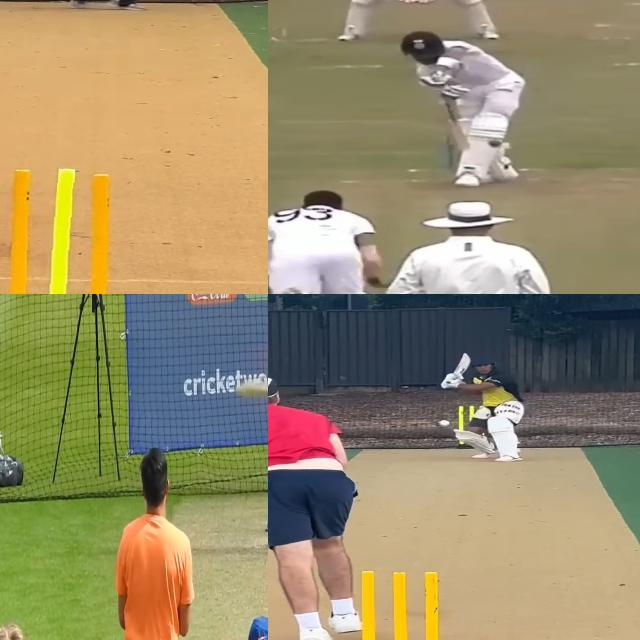Cricket ball: (487, 137, 506, 149), (435, 419, 454, 428)
Stumps: (0, 164, 129, 294), (348, 566, 460, 640), (455, 405, 484, 448)
